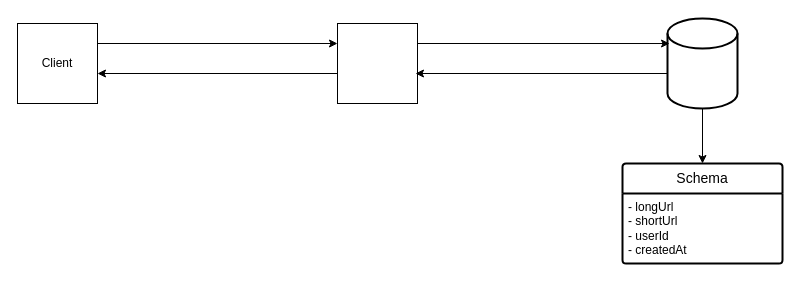
Some shapes in this 801 by 289 pixel diagram are drawn without their labels. Here are the shapes that lost their labels. From the top down, the centre of each, then its label:
At (377,63): "URL Shortening Service".
At (702,63): "DB".
